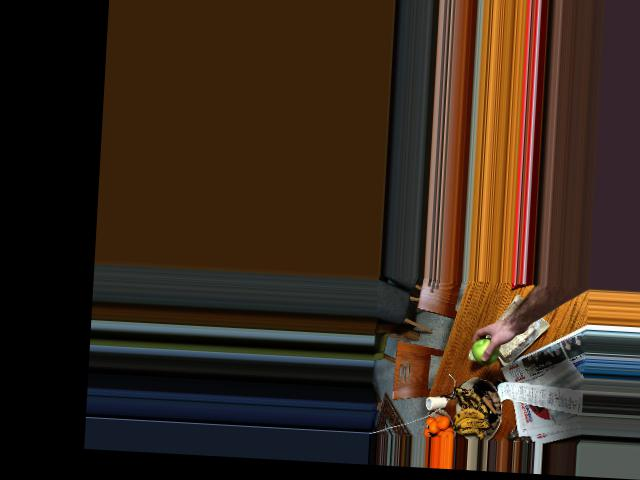apple: (470, 335, 501, 365)
